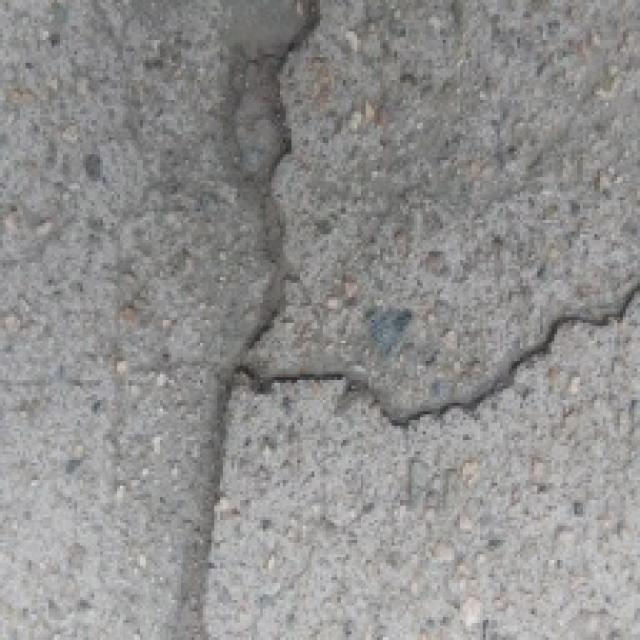SurfaceCrack: (166, 2, 630, 622)
